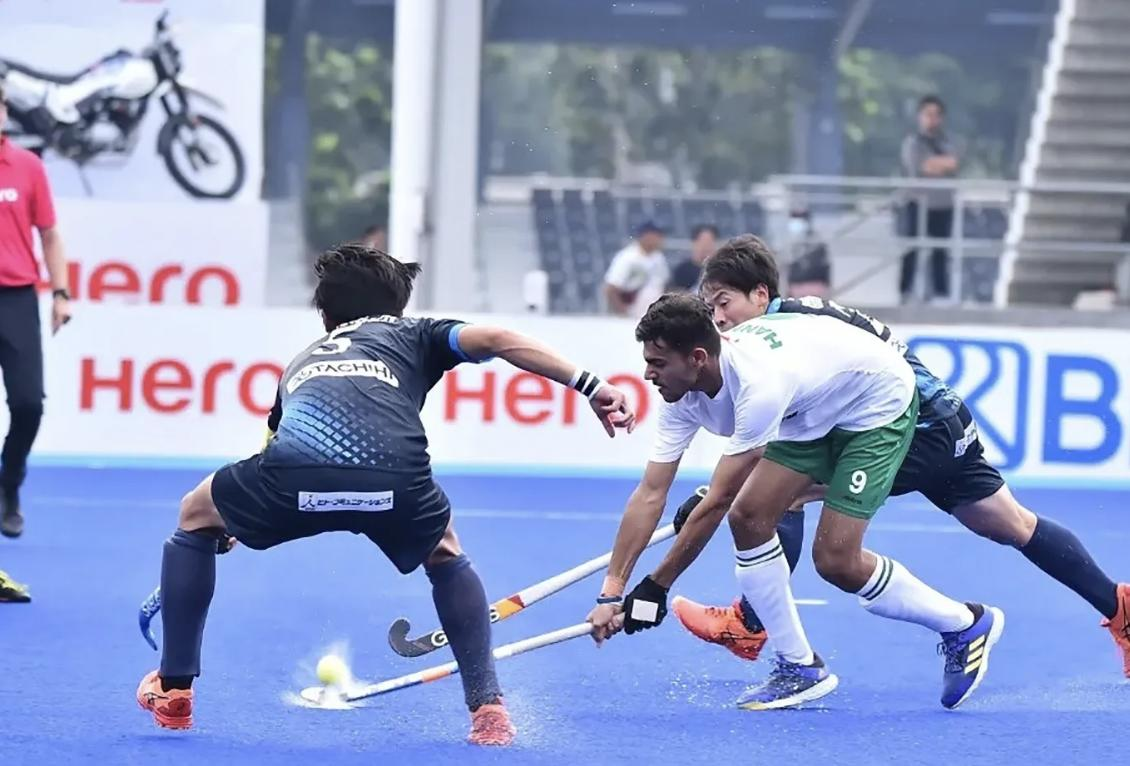ball: (312, 651, 359, 690)
